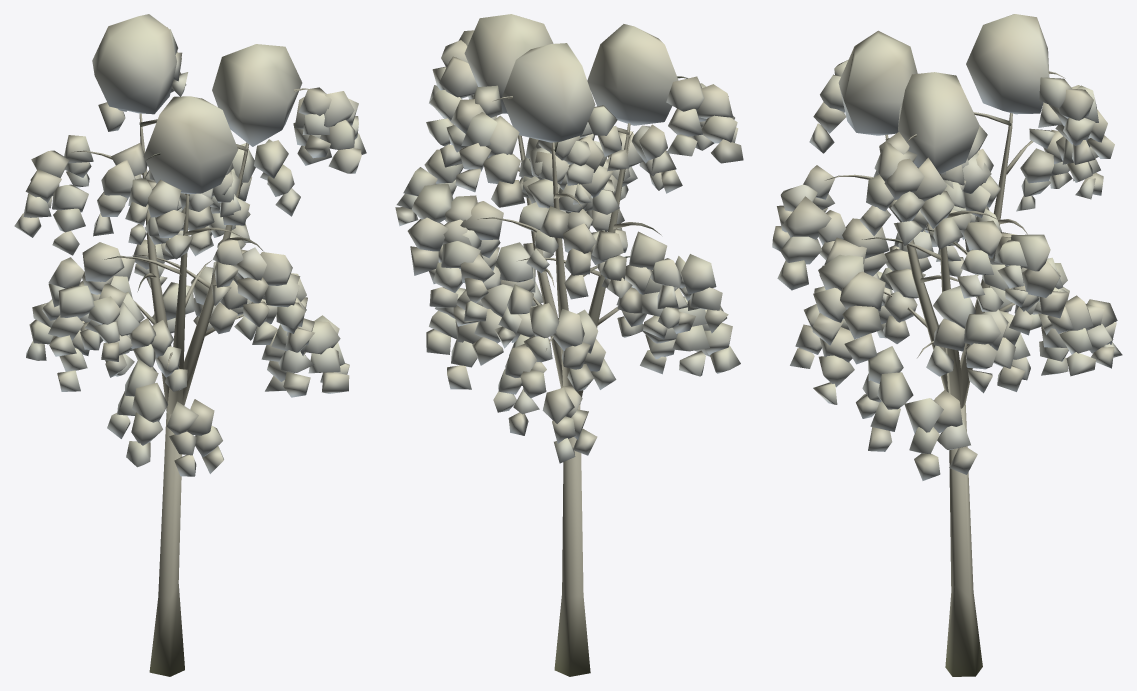
3 views of the same model, side by side, from view 1: azimuth 30°, elevation 25°; view 2: azimuth 150°, elevation 25°; view 3: azimuth 270°, elevation 25° (orthographic). The views are drawn at different scales.
Visible parts, largest first — view 1: crown, trunk; view 2: crown, trunk; view 3: crown, trunk.
Boxes of the visible parts, left/top/right/bottom form: crown: left=14, top=14, right=366, bottom=476; trunk: left=71, top=88, right=307, bottom=676; crown: left=395, top=14, right=743, bottom=463; trunk: left=455, top=76, right=687, bottom=676; crown: left=772, top=14, right=1122, bottom=480; trunk: left=825, top=71, right=1065, bottom=676.
Size of the model in its own units: 7.71 by 15.28 by 7.41.
